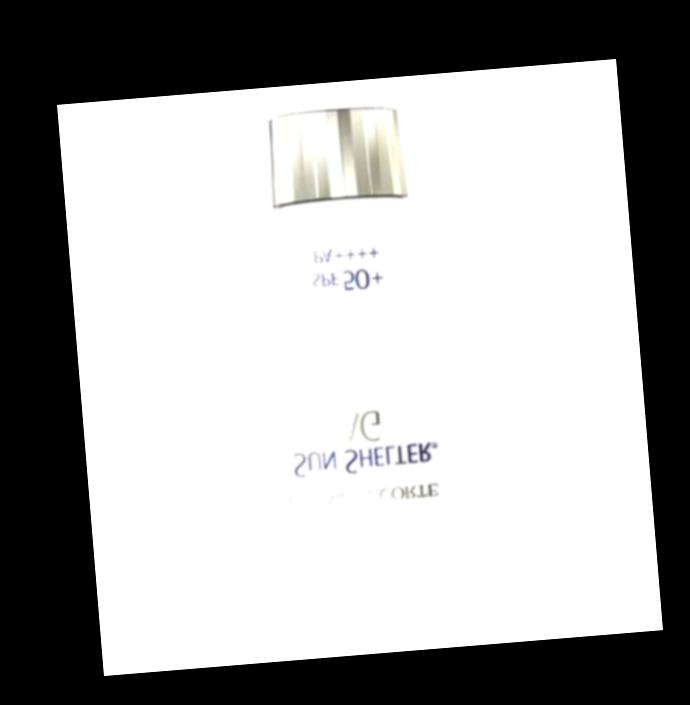cosmetic: (238, 100, 468, 617)
